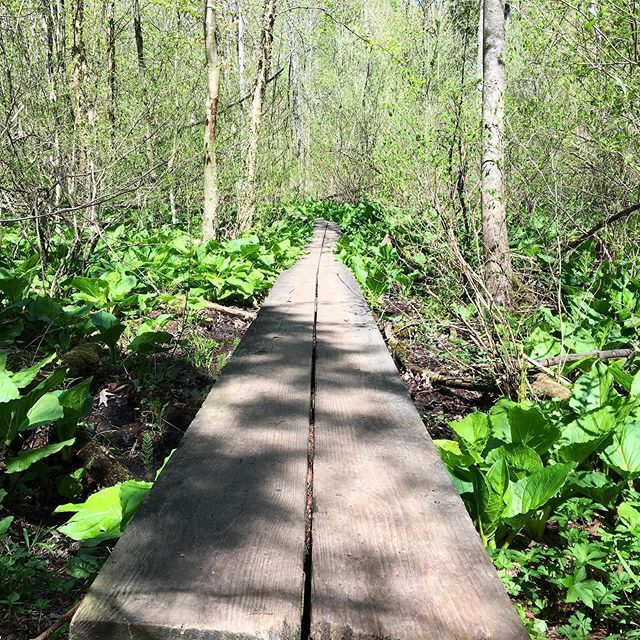vegetation: (1, 1, 633, 624)
